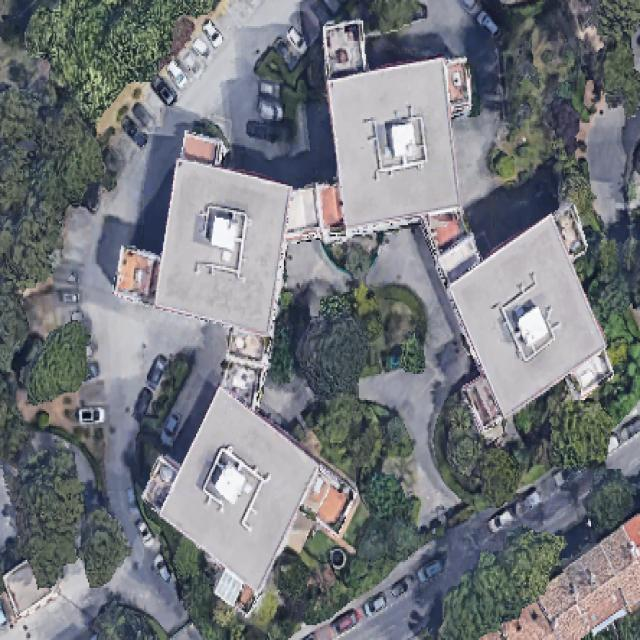immeuble: (145, 388, 330, 592), (434, 214, 615, 417), (143, 153, 305, 335), (324, 60, 461, 228)
